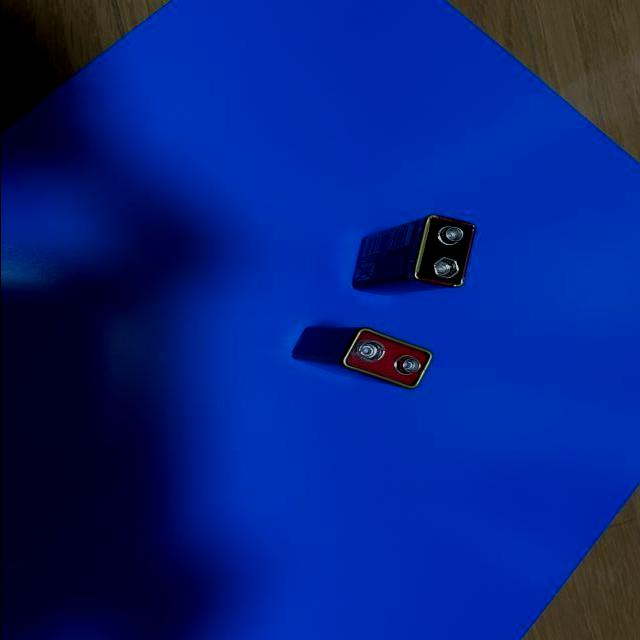9V: (351, 214, 479, 296), (290, 325, 431, 390)
